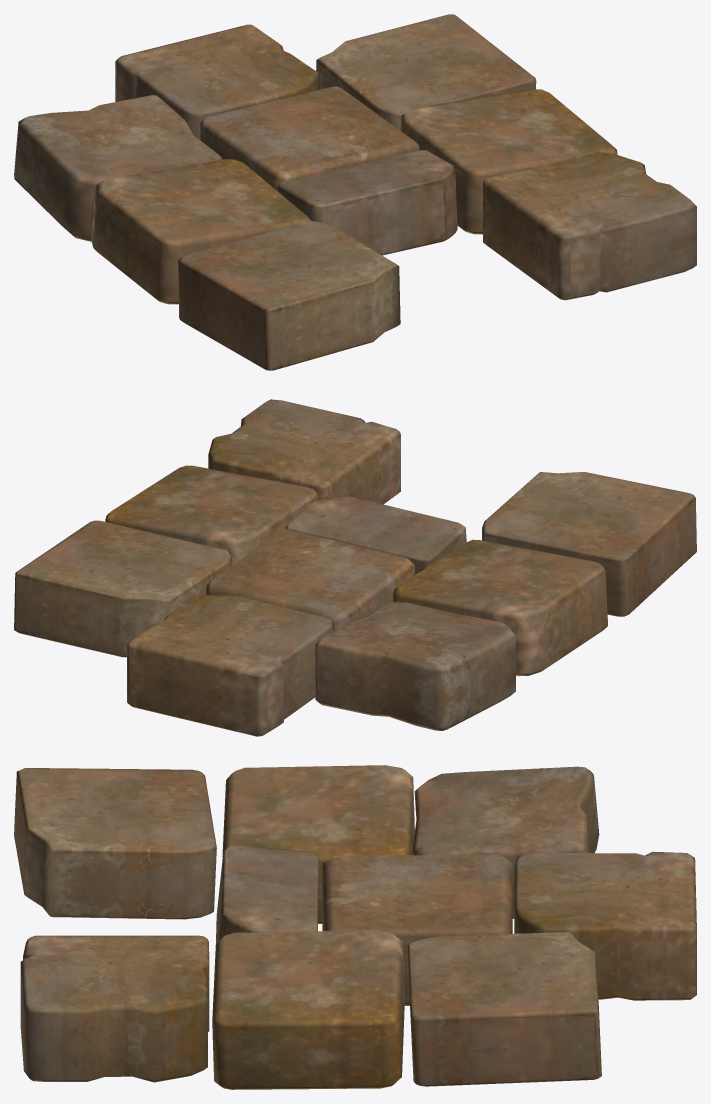
The picture shows the model from 3 angles, top to bottom: view 1: azimuth 30°, elevation 25°; view 2: azimuth 150°, elevation 25°; view 3: azimuth 270°, elevation 25°; orthographic projection. The views are drawn at different scales.
Visible parts, largest first — view 1: SM_DK_Path_01_V1_LOD0; view 2: SM_DK_Path_01_V1_LOD0; view 3: SM_DK_Path_01_V1_LOD0.
Part boxes in pixels (left/top/right/bottom): SM_DK_Path_01_V1_LOD0: left=14, top=14, right=696, bottom=370; SM_DK_Path_01_V1_LOD0: left=14, top=399, right=696, bottom=736; SM_DK_Path_01_V1_LOD0: left=14, top=765, right=696, bottom=1089.
Size of the model in its own units: 4.02 by 0.67 by 4.63.
1 material, 1 textured.
